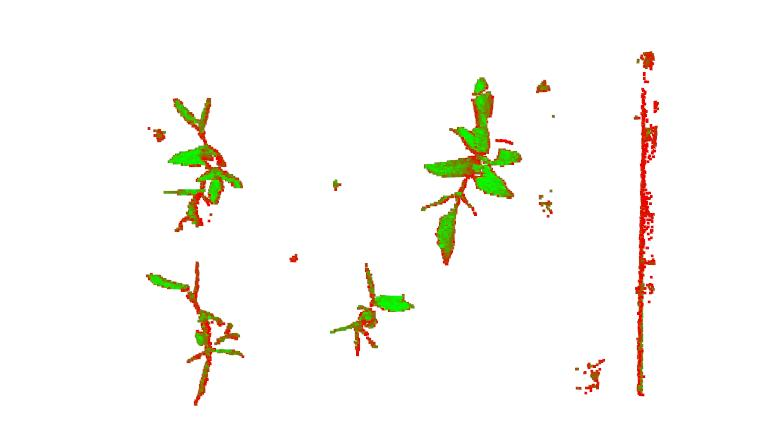mungbean: (424, 72, 523, 266), (145, 259, 248, 419), (155, 91, 252, 234), (330, 258, 424, 356)
